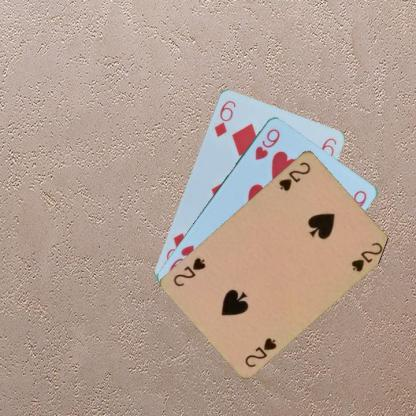2s: (274, 159, 312, 193), (242, 335, 278, 368)
6d: (211, 97, 237, 138)
9h: (252, 126, 281, 162)
